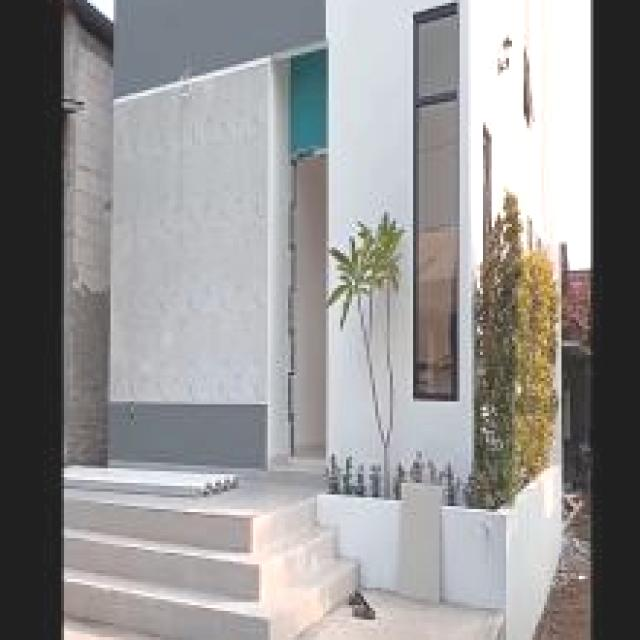upstair: (65, 487, 283, 640)
